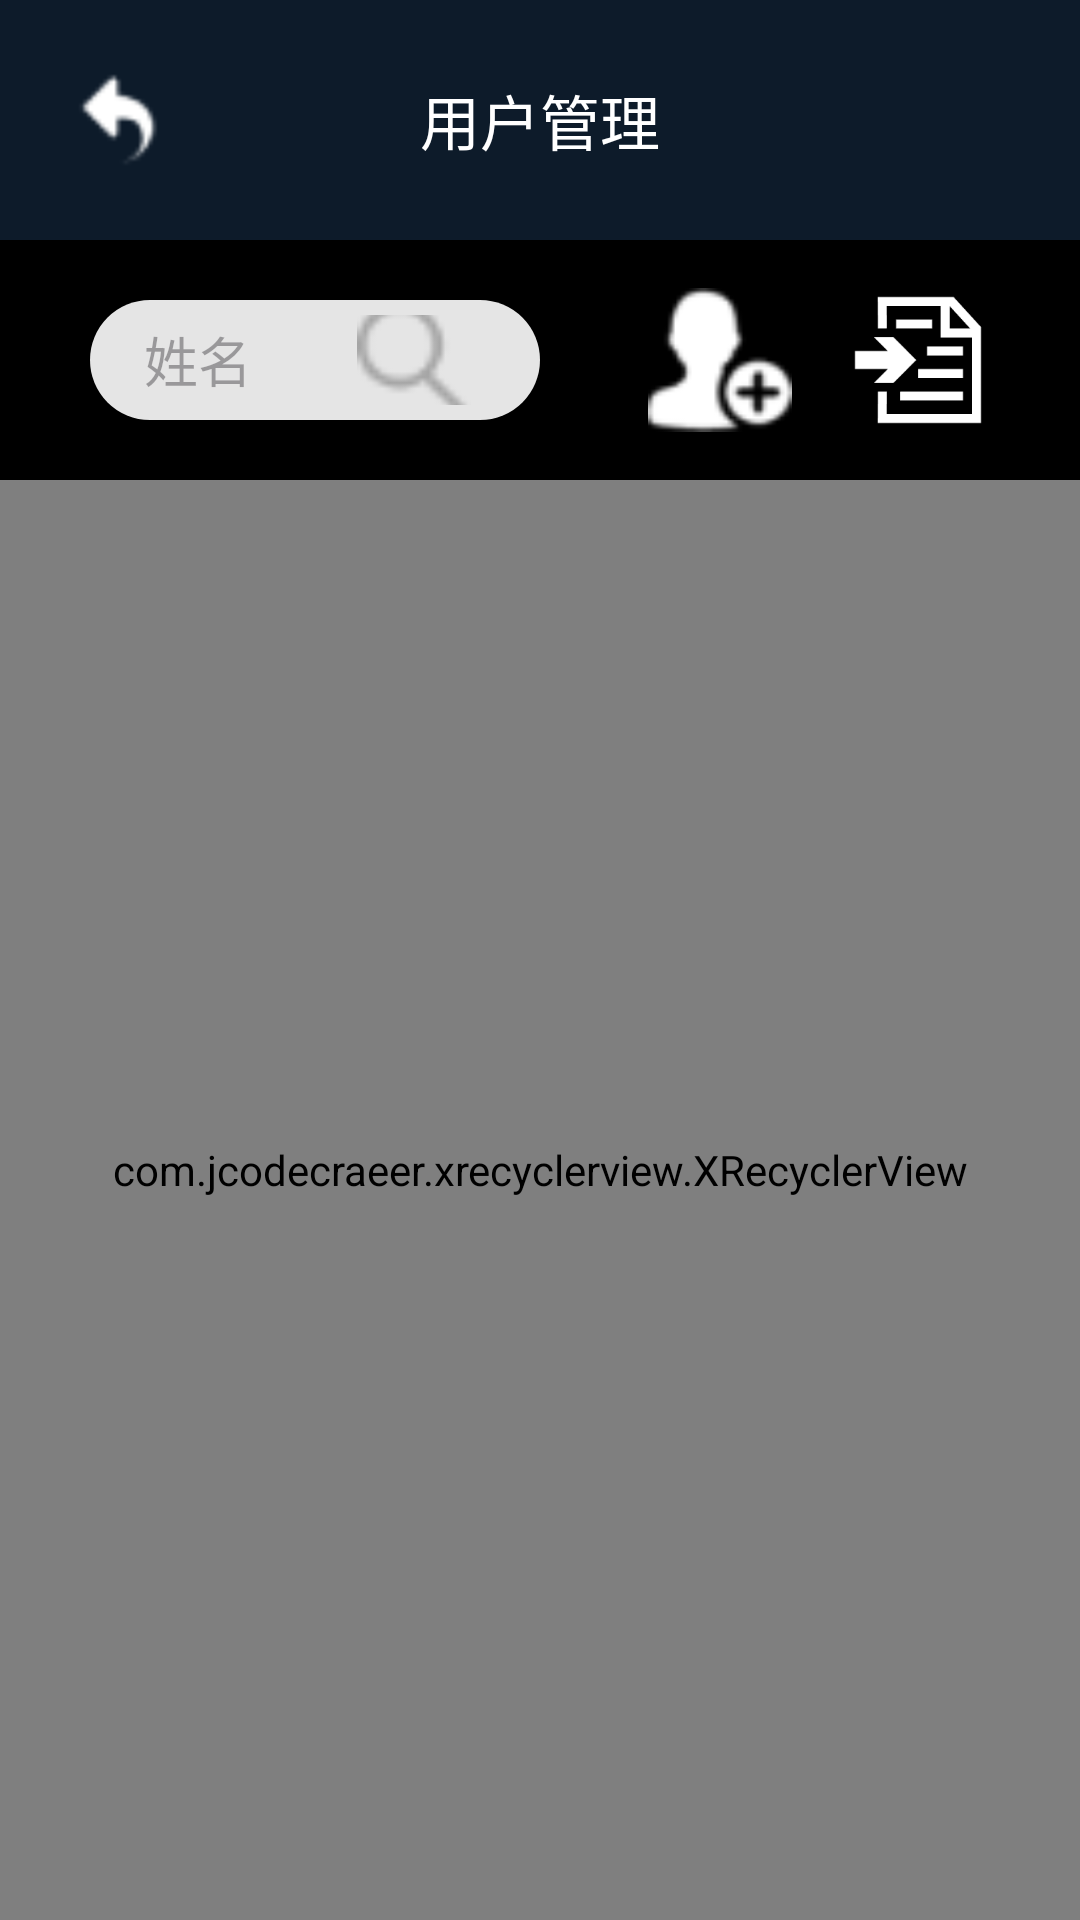

Locate icon controls on the screen. Image size 1080px×1920px, boxes as Rect(x1, y1, x2, y2).
add: Rect(648, 288, 792, 432)
import: Rect(854, 296, 982, 424)
搜索: Rect(357, 315, 464, 405)
返回: Rect(82, 75, 156, 160)
